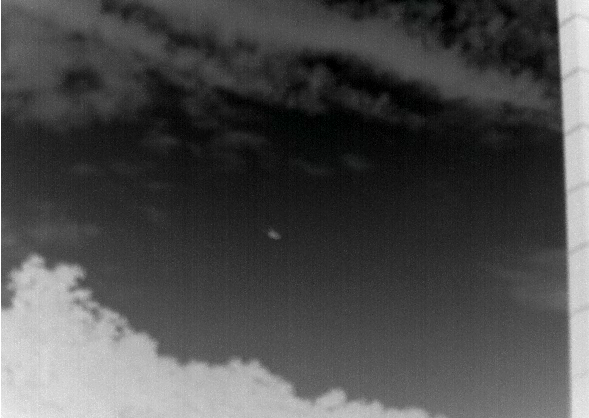dim target: (265, 228, 281, 241)
